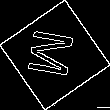M_E: (26, 28, 84, 82)
